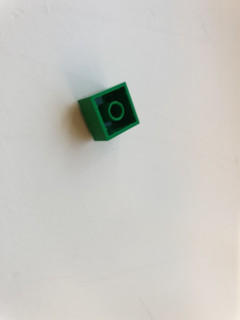2x2 green: (77, 80, 141, 141)
